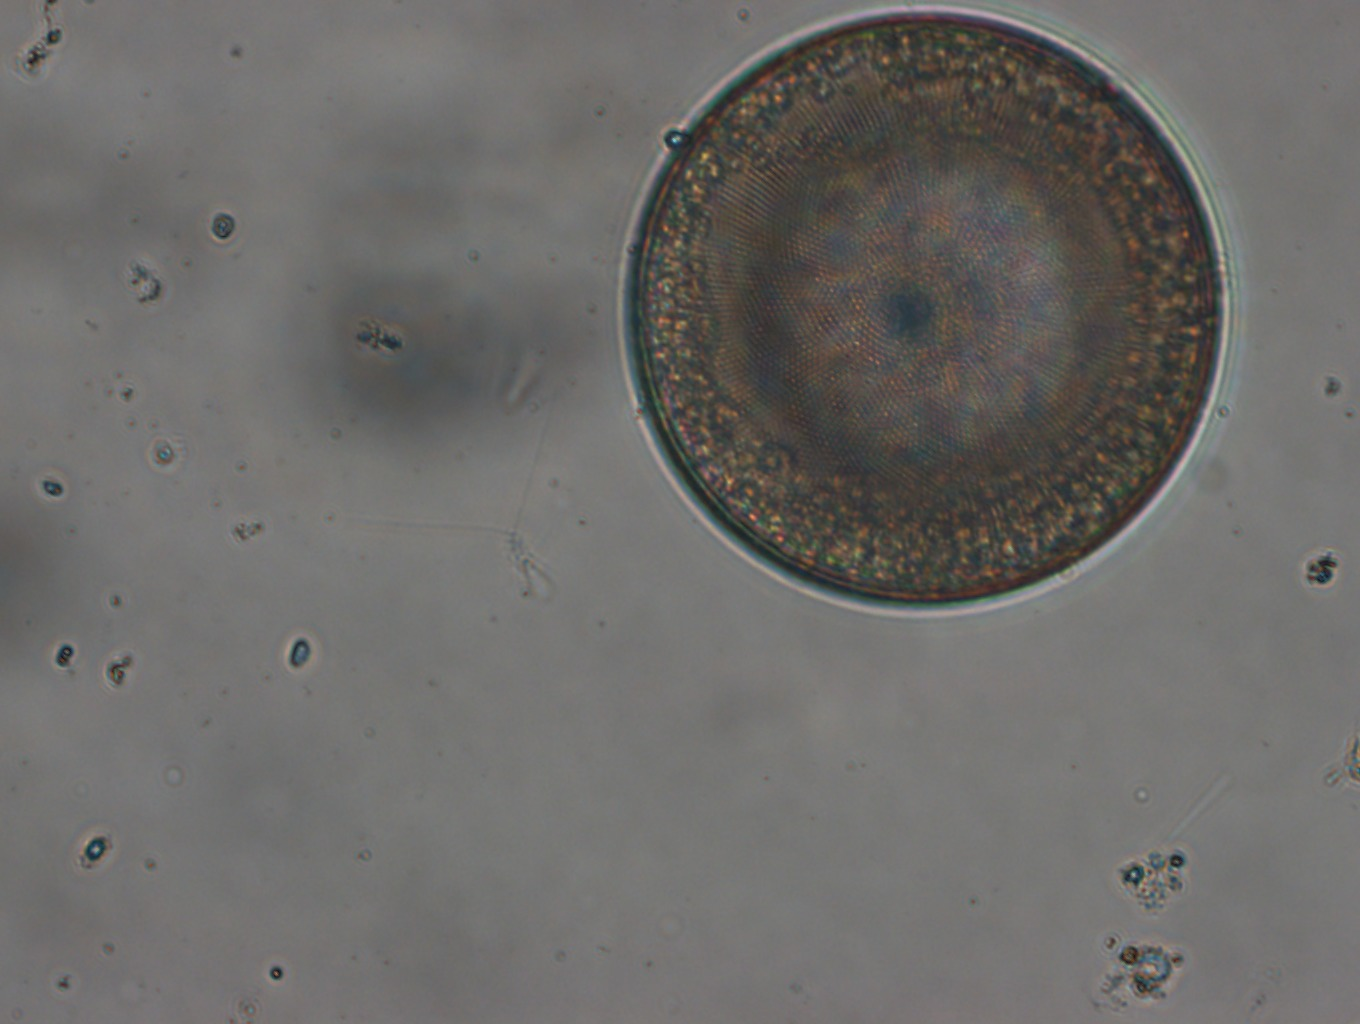coscinodiscus: (613, 2, 1228, 615)
